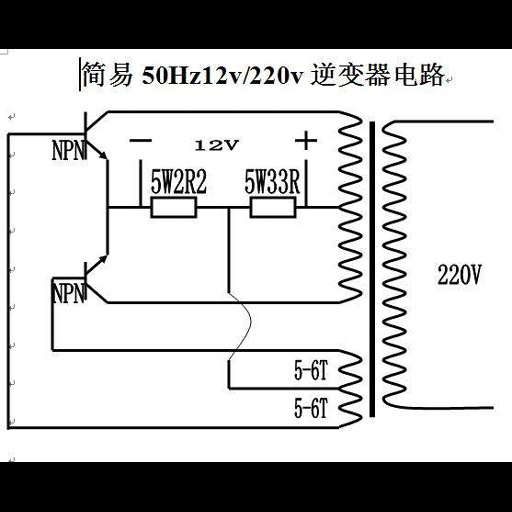firstresistance: (244, 195, 299, 223), (147, 194, 199, 223)
npn: (77, 249, 118, 306), (74, 108, 114, 163)
transformer: (333, 110, 413, 430)
